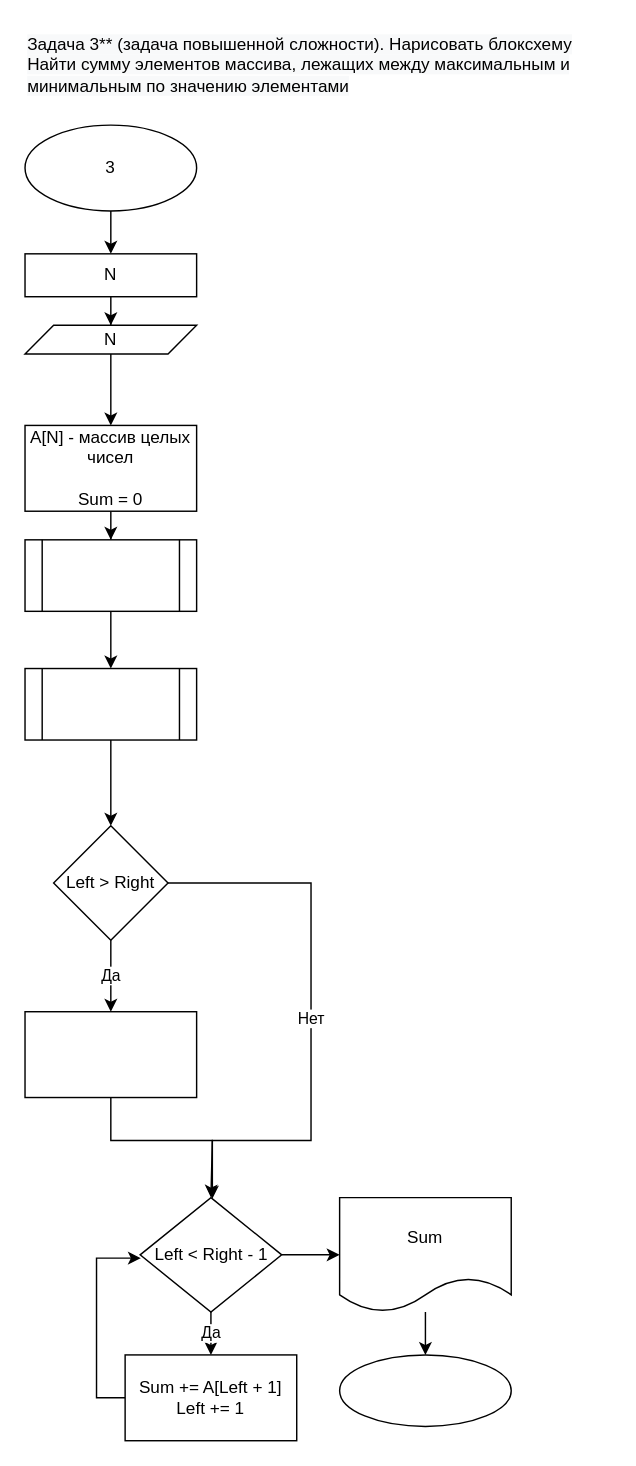
Some shapes in this 636 by 1466 pixel diagram are drawn without their labels. The shapes that lost their labels are listed below. From the top down, each one's box as (x1, y1, x2, y2) in pixels, then its label:
(24, 538, 197, 611): Input( A )
(24, 667, 197, 740): Left = Min(A) Right = Max(A)
(24, 1010, 197, 1098): help = Left Left = Right Right = help
(338, 1353, 511, 1426): Конец
